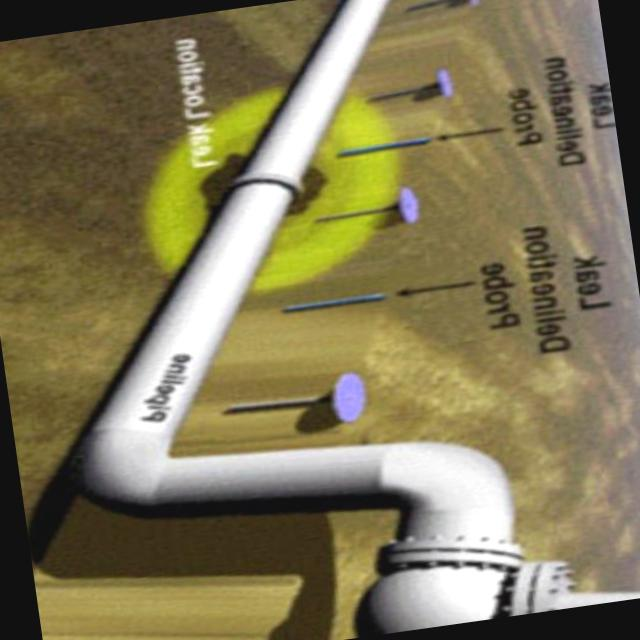gas: (80, 0, 389, 505)
